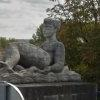Statue: (5, 13, 65, 80)
